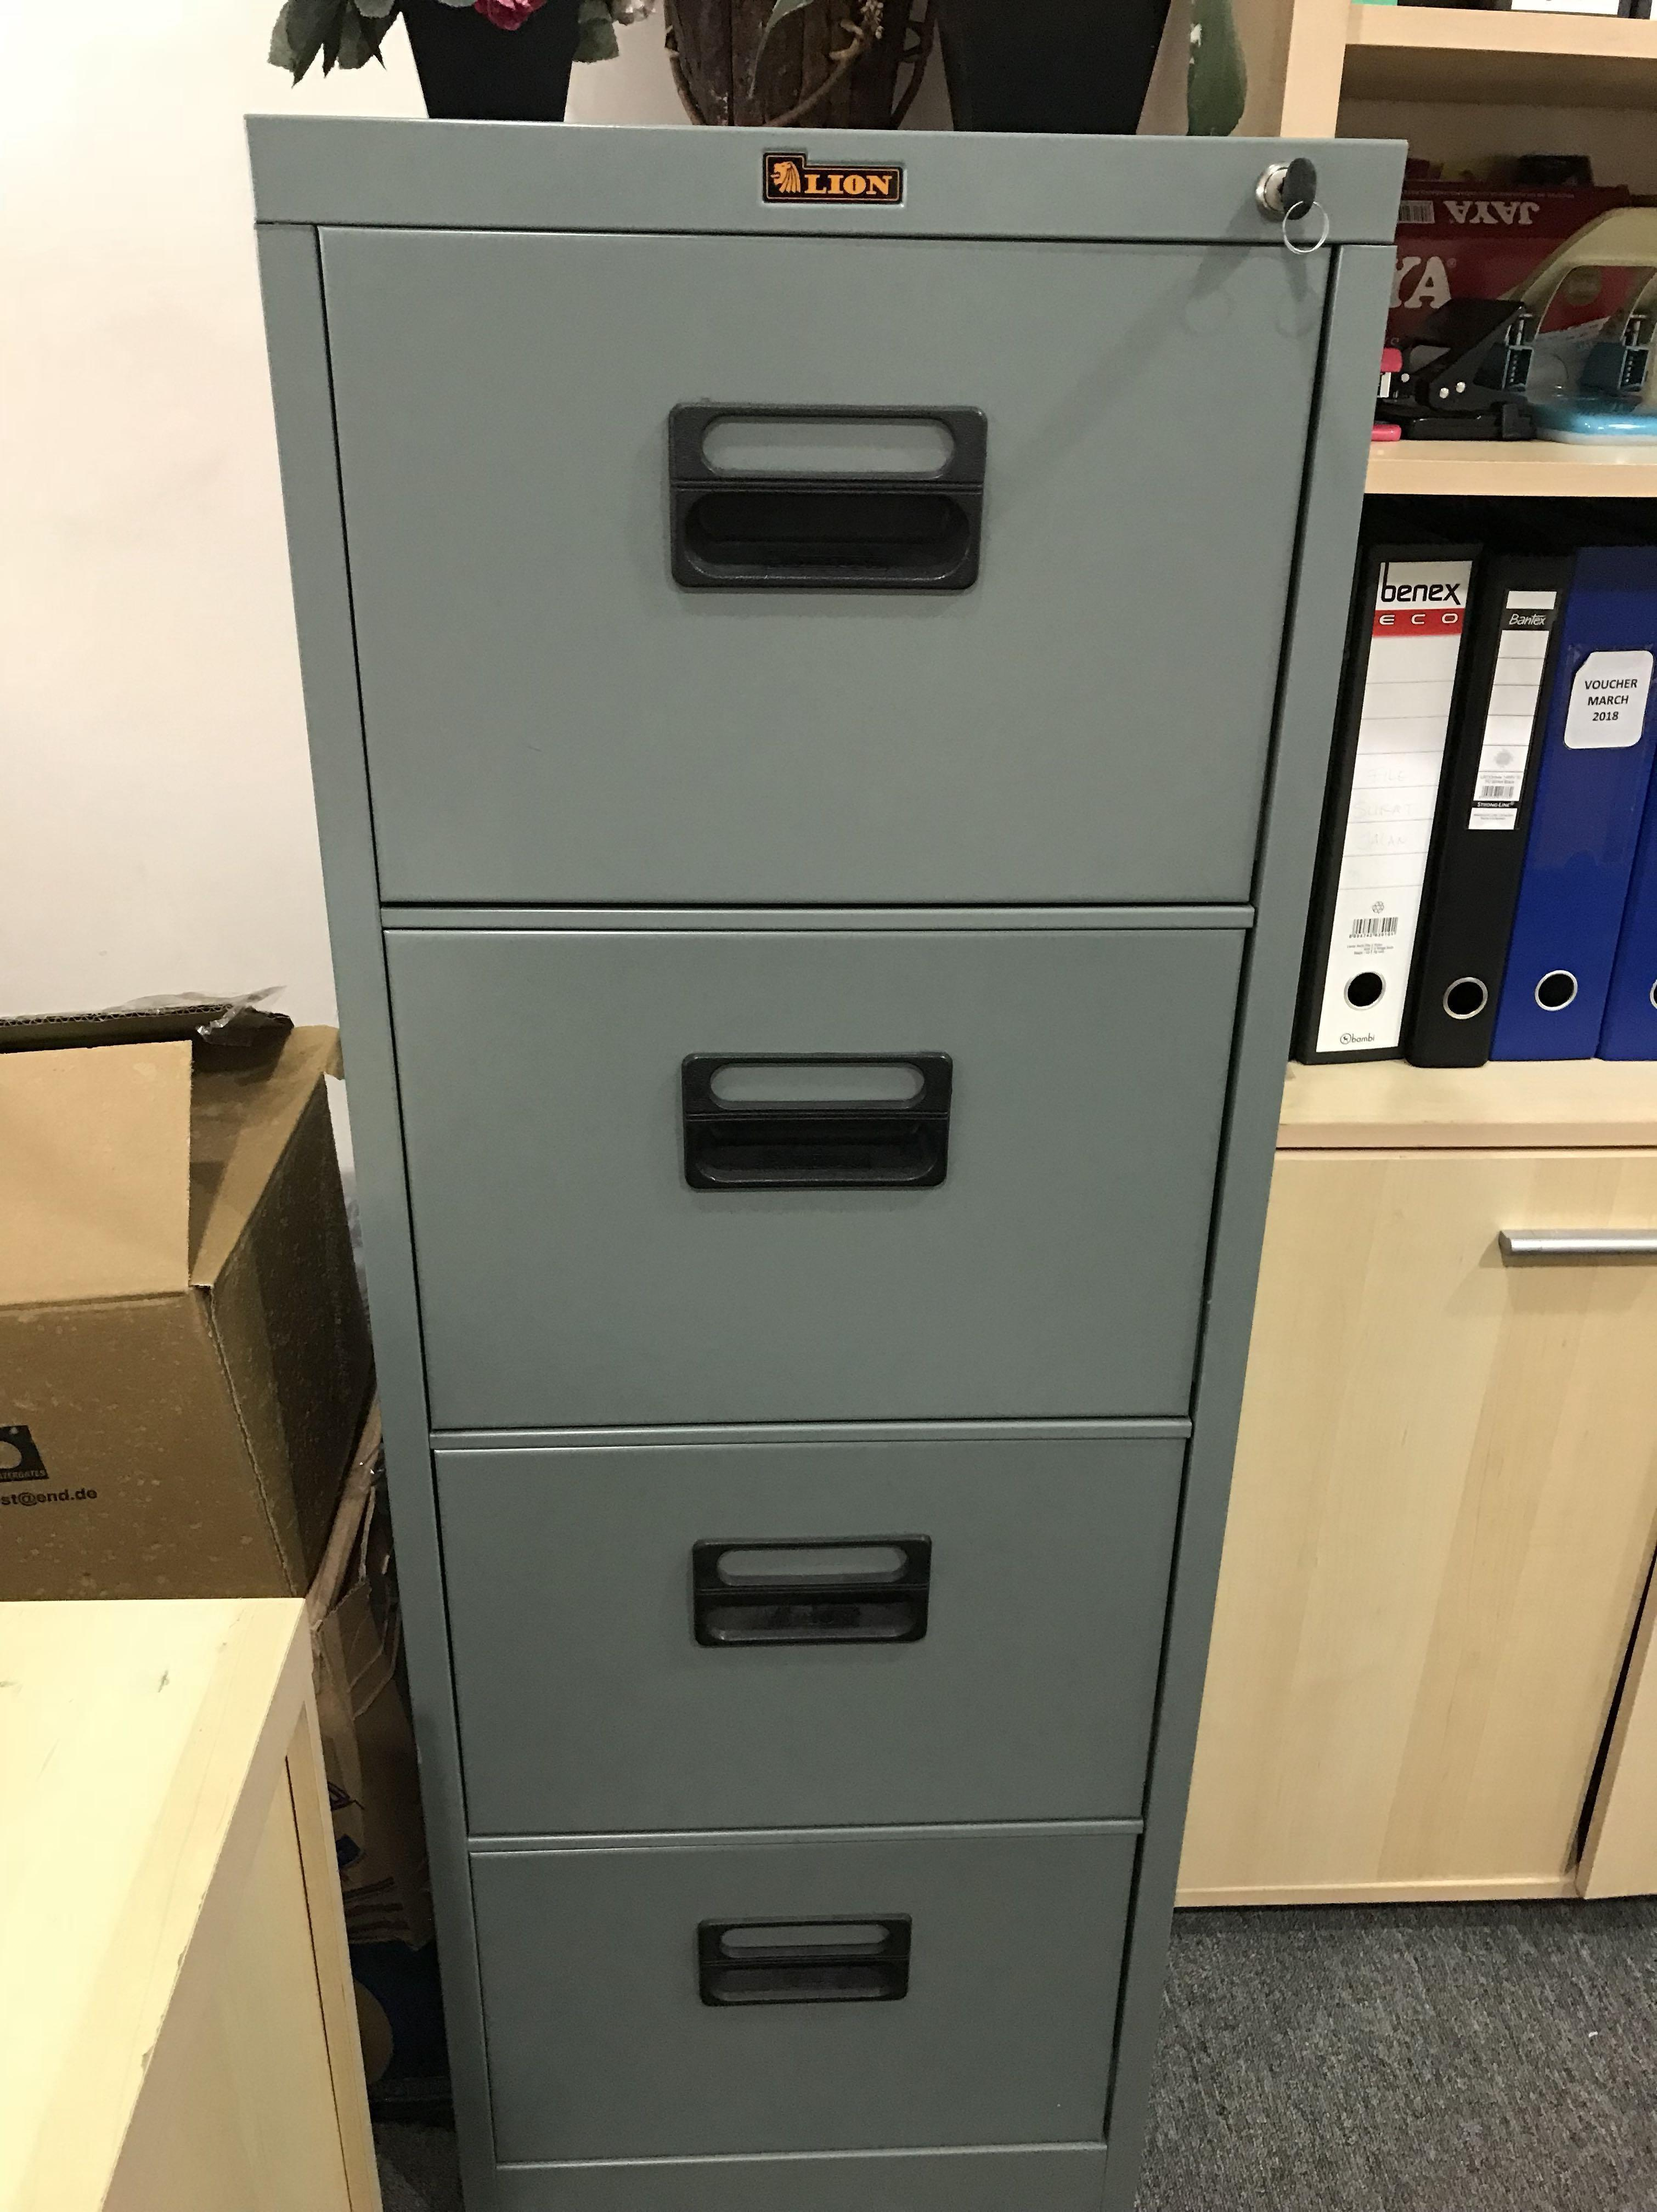Filing Cabinet: (244, 117, 1415, 2212)
